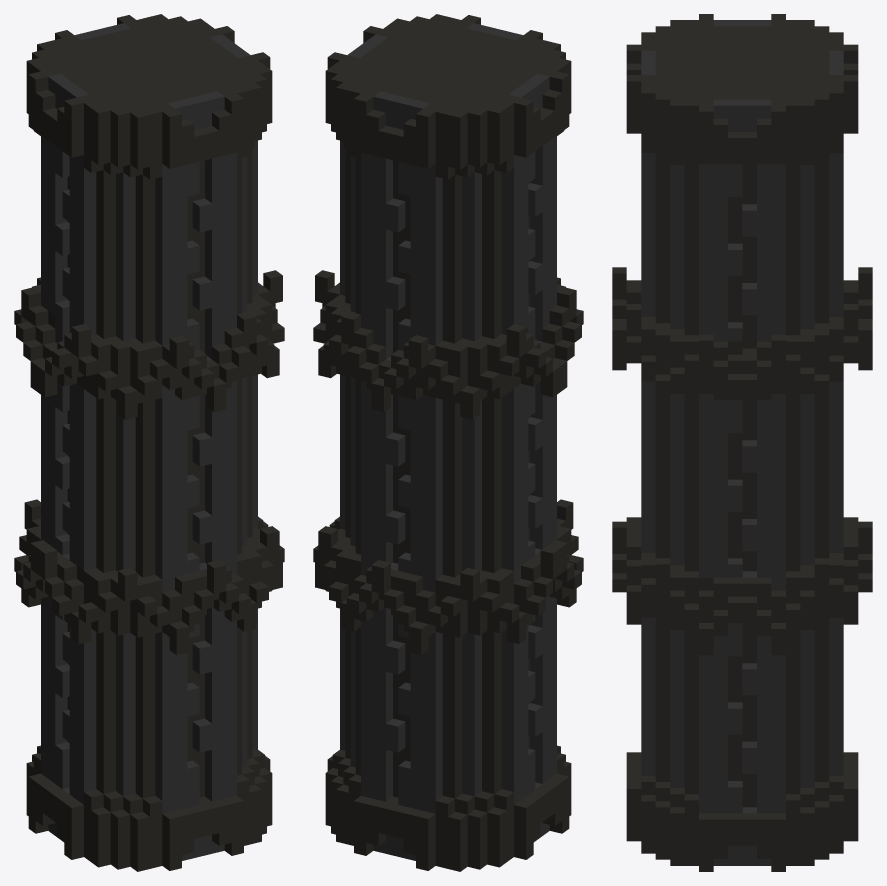
File: PillarInStone.obj
3 renders of one model, left to right at view 1: azimuth 30°, elevation 25°; view 2: azimuth 150°, elevation 25°; view 3: azimuth 270°, elevation 25°, orthographic.
Bounding box in the file's own units: 1.8 × 5.8 × 1.8.
Materials: 1 (1 with a texture image).
